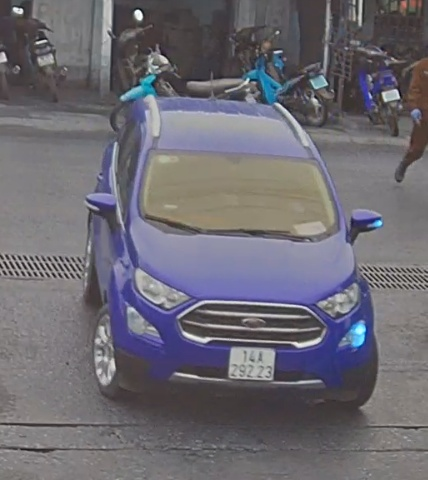vehicle plate: (227, 340, 280, 386)
